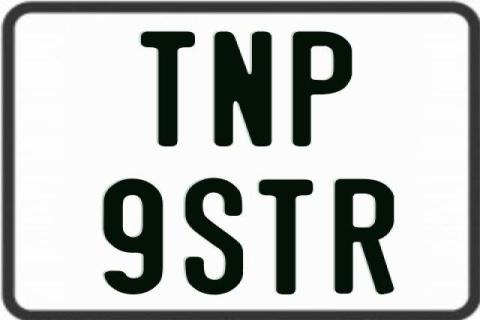0: (100, 178, 165, 296)
N: (211, 29, 269, 147)
P: (291, 30, 353, 148)
R: (334, 180, 394, 300)
S: (183, 176, 247, 294)
T: (256, 178, 314, 296), (140, 32, 194, 150)
